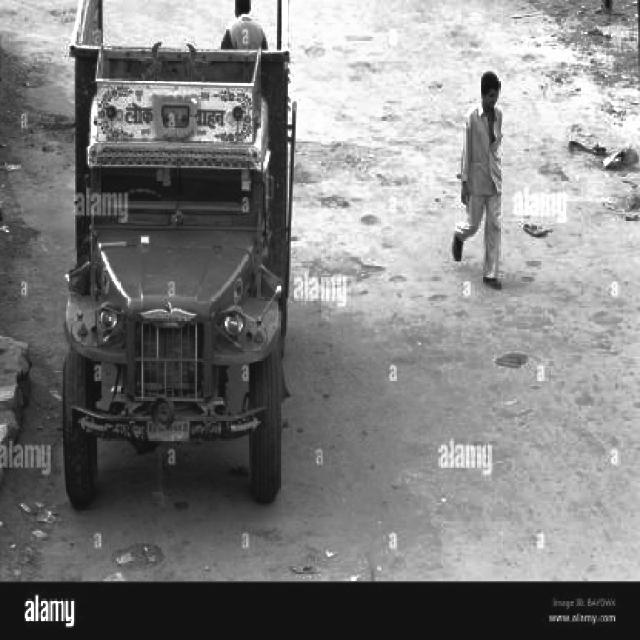HCV: (32, 99, 288, 522)
